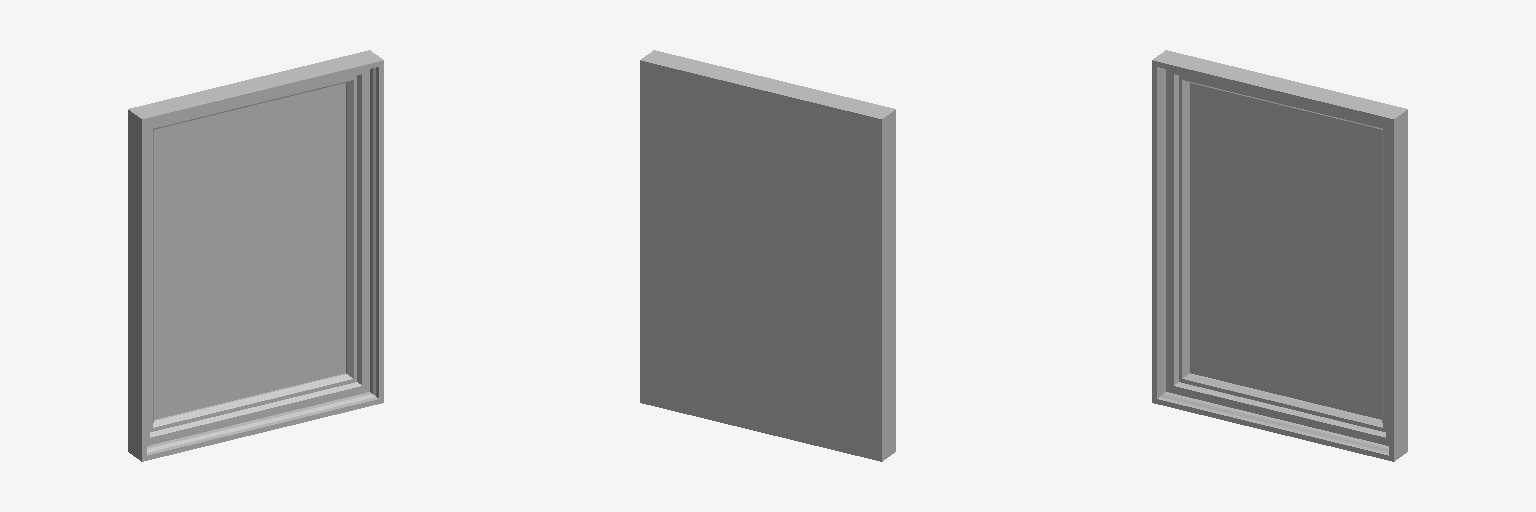
File: frame.obj
3 renders of one model, left to right at view 1: azimuth 30°, elevation 25°; view 2: azimuth 150°, elevation 25°; view 3: azimuth 330°, elevation 25°, orthographic.
Parts seen in each view (by area): view 1: Obraz02_ready_Material_#37_0, Obraz02_ready_RamyLP_0; view 2: Obraz02_ready_RamyLP_0; view 3: Obraz02_ready_Material_#37_0, Obraz02_ready_RamyLP_0.
Part boxes in pixels (left/top/right/bottom): Obraz02_ready_Material_#37_0: left=154, top=83, right=345, bottom=419; Obraz02_ready_RamyLP_0: left=128, top=50, right=383, bottom=461; Obraz02_ready_RamyLP_0: left=640, top=50, right=895, bottom=461; Obraz02_ready_Material_#37_0: left=1190, top=83, right=1381, bottom=419; Obraz02_ready_RamyLP_0: left=1152, top=50, right=1407, bottom=461.
Bounding box in the file's own units: 132 × 178 × 13.29.